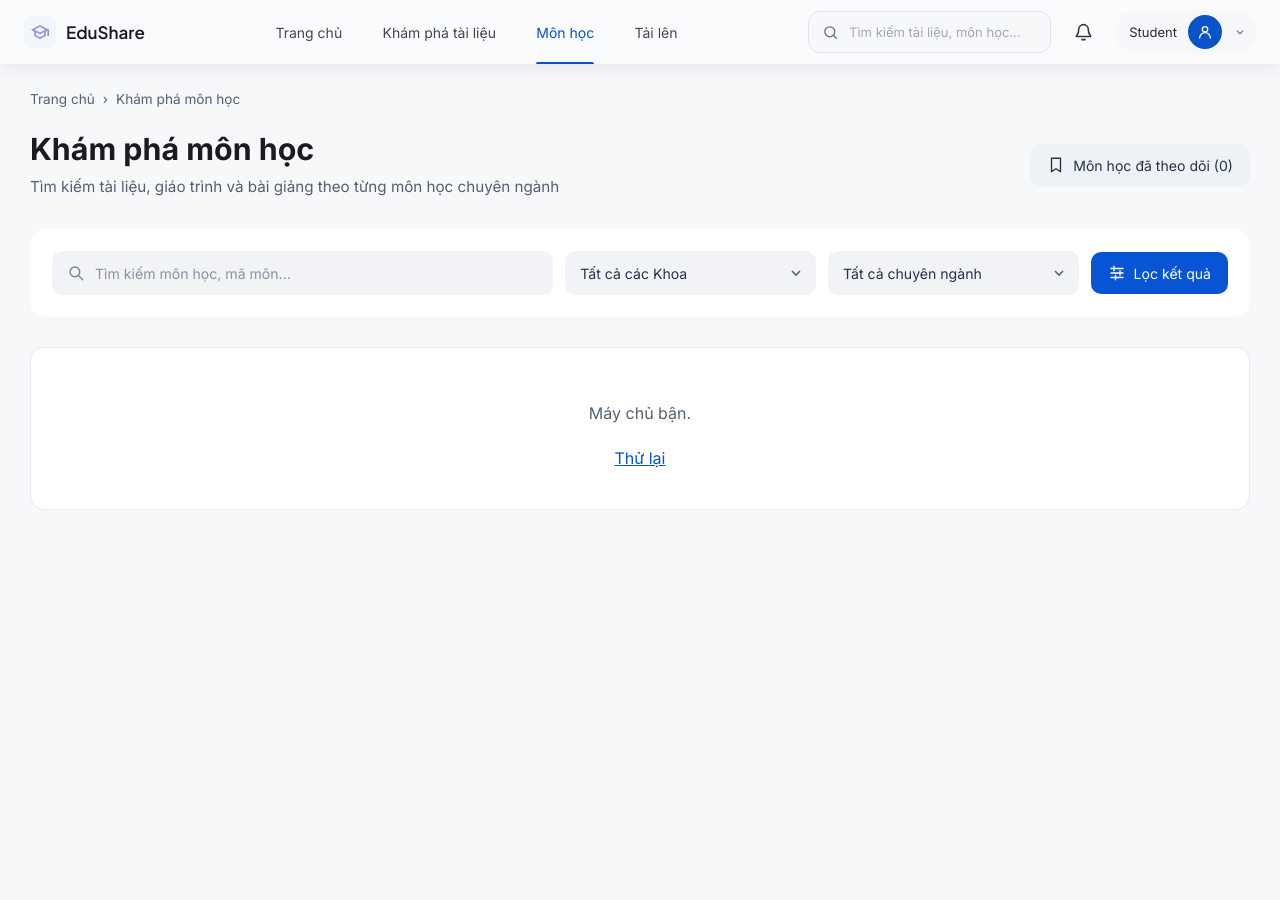
Test: recovers from a failed subject list request using the retry action
Expected: the message shows "Máy chủ bận.", [589,403,691,423]
Click the button "Thử lại". click: (640, 458)
box: [608,444,671,473]
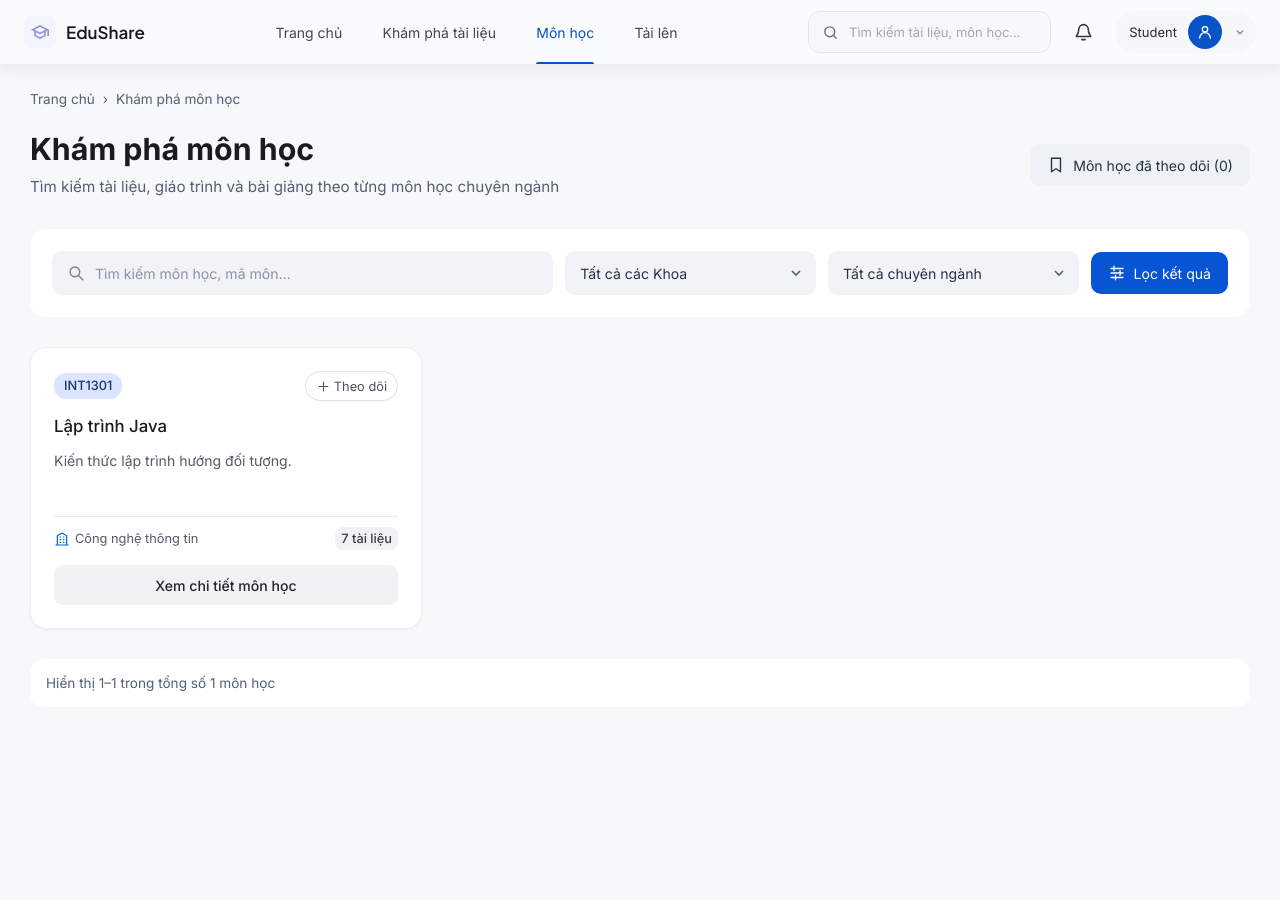
Result: the heading "Lập trình Java" is shown at [54,416,167,436]
